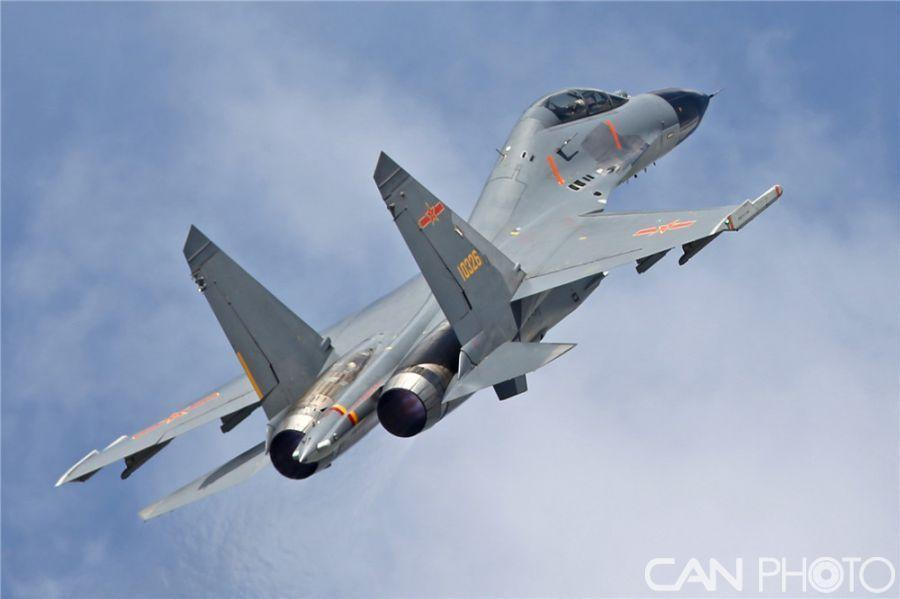airplane: (48, 88, 783, 526)
